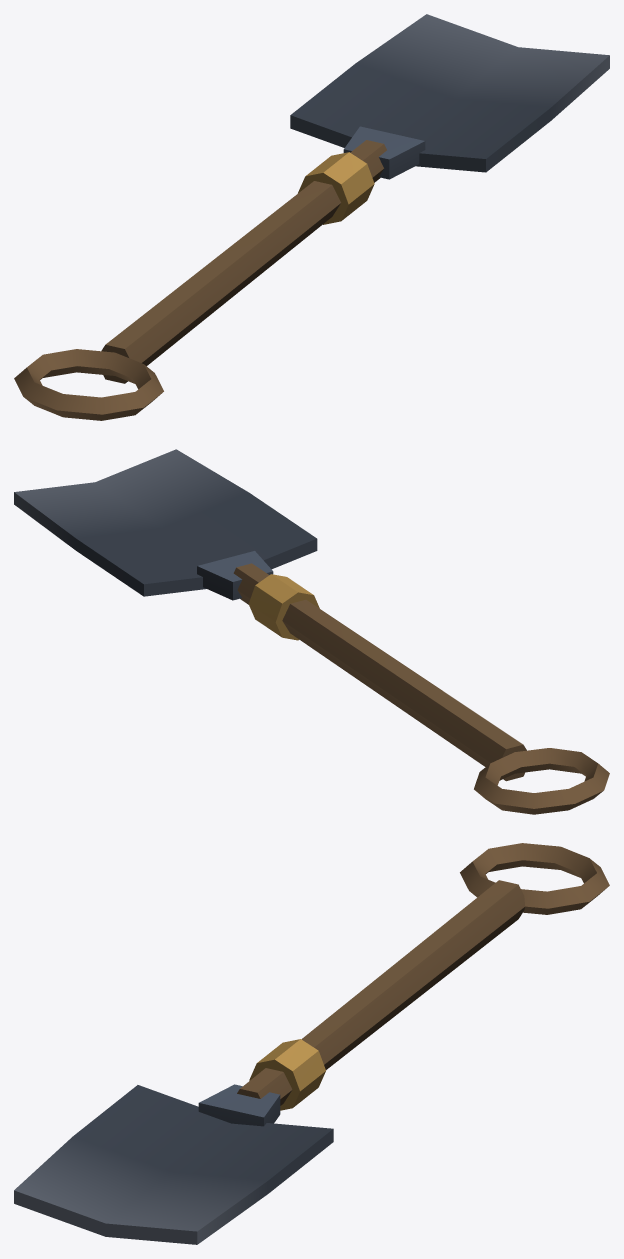
File: ph_item_shovel_master.glb
The picture shows the model from 3 angles, top to bottom: view 1: azimuth 90°, elevation 25°; view 2: azimuth 150°, elevation 25°; view 3: azimuth 270°, elevation 25°; orthographic projection. The views are drawn at different scales.
Visible parts, largest first — view 1: ph_item_shovel_master; view 2: ph_item_shovel_master; view 3: ph_item_shovel_master.
Part boxes in pixels (x1=…): ph_item_shovel_master: x1=14, y1=14, x2=609, y2=420; ph_item_shovel_master: x1=14, y1=449, x2=609, y2=814; ph_item_shovel_master: x1=14, y1=843, x2=609, y2=1244.
Size of the model in its own units: 0.5015 by 0.0312 by 0.3227.
